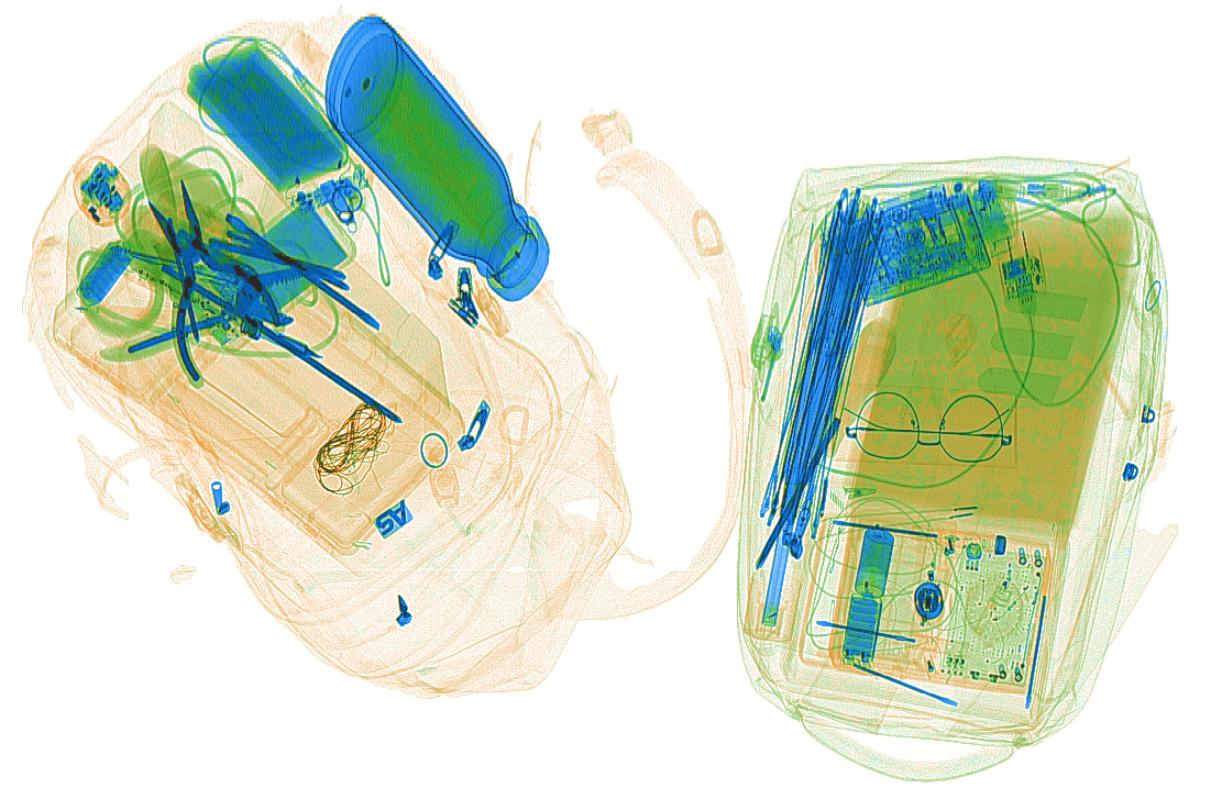battery: (76, 240, 133, 309), (841, 594, 883, 663)
